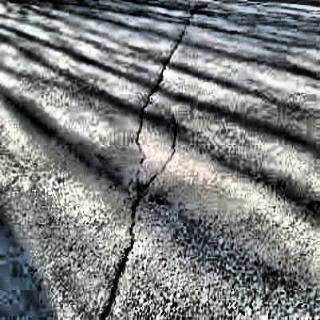crack: (94, 0, 198, 320)
